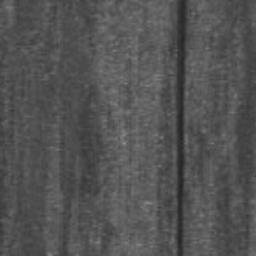Scratches: (177, 0, 188, 256)
